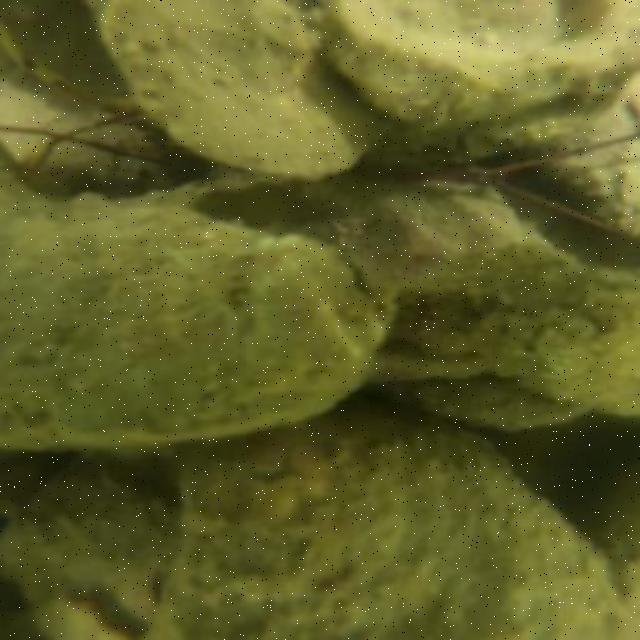Oyster-Closed: (156, 421, 626, 640), (0, 203, 371, 448), (351, 188, 627, 401), (99, 0, 370, 182), (323, 0, 609, 142), (4, 459, 175, 631)
